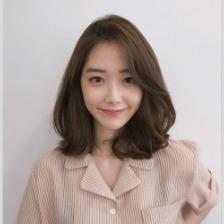Non hijab: (52, 14, 179, 161)
